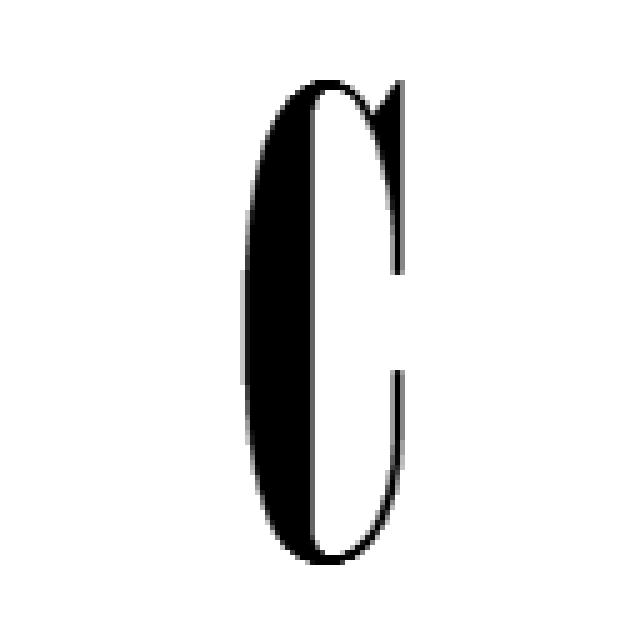C: (245, 80, 405, 570)
